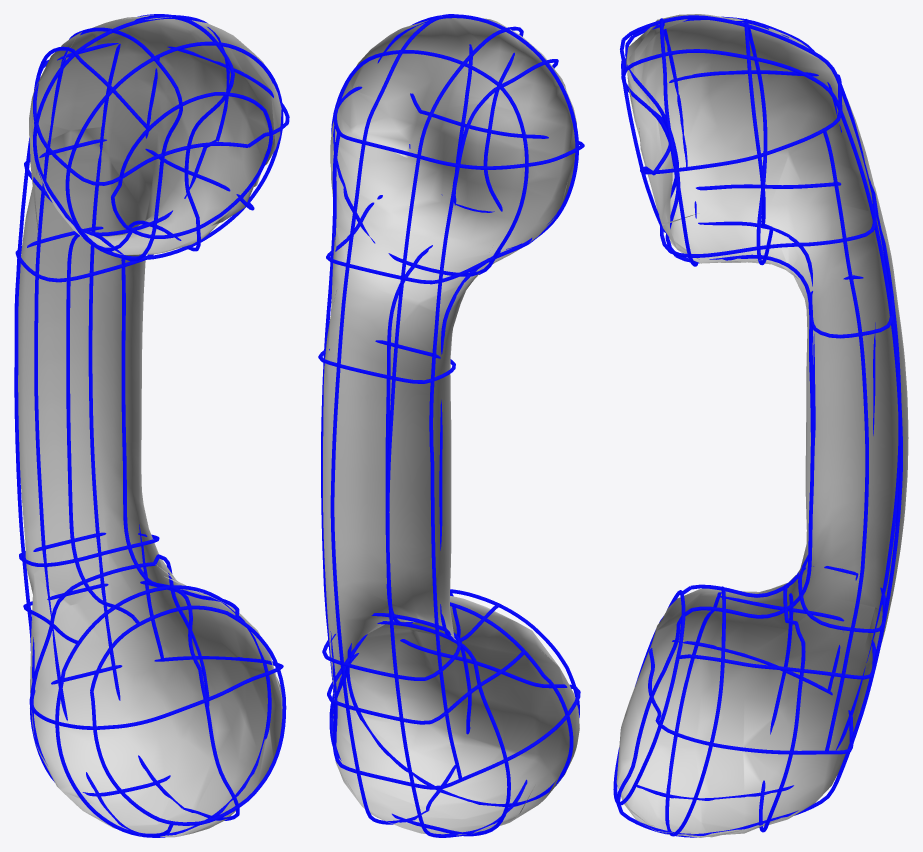
File: flowrep_phone_sketch_proxy.glb
3 views of the same model, side by side, from view 1: azimuth 30°, elevation 25°; view 2: azimuth 150°, elevation 25°; view 3: azimuth 270°, elevation 25° (orthographic).
Parts seen in each view (by area): view 1: flowrep_phone_surface, flowrep_phone; view 2: flowrep_phone_surface, flowrep_phone; view 3: flowrep_phone_surface, flowrep_phone.
Boxes of the visible parts, x1,y1,x2,y2 form: flowrep_phone_surface: [18, 15, 282, 837]; flowrep_phone: [14, 14, 289, 837]; flowrep_phone_surface: [323, 16, 579, 835]; flowrep_phone: [318, 14, 584, 837]; flowrep_phone_surface: [616, 14, 908, 837]; flowrep_phone: [613, 15, 902, 837].
Size of the model in its own units: 0.2687 by 0.9239 by 0.3098.
